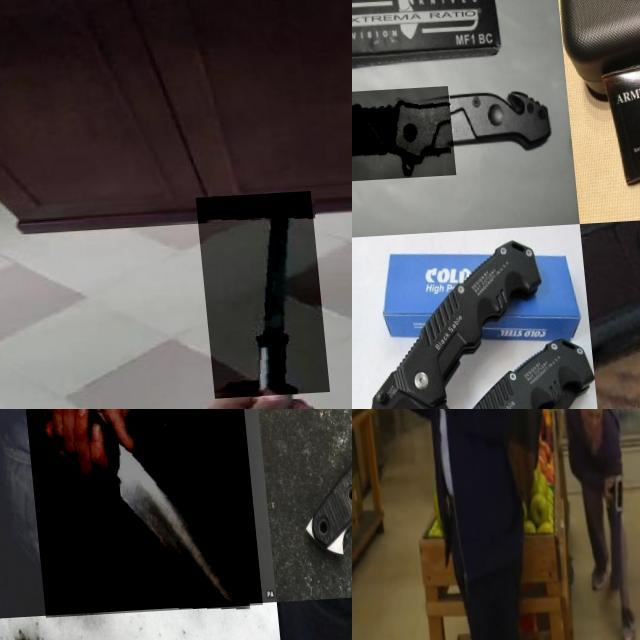-: (18, 409, 256, 618), (192, 196, 322, 402), (352, 88, 451, 185)
